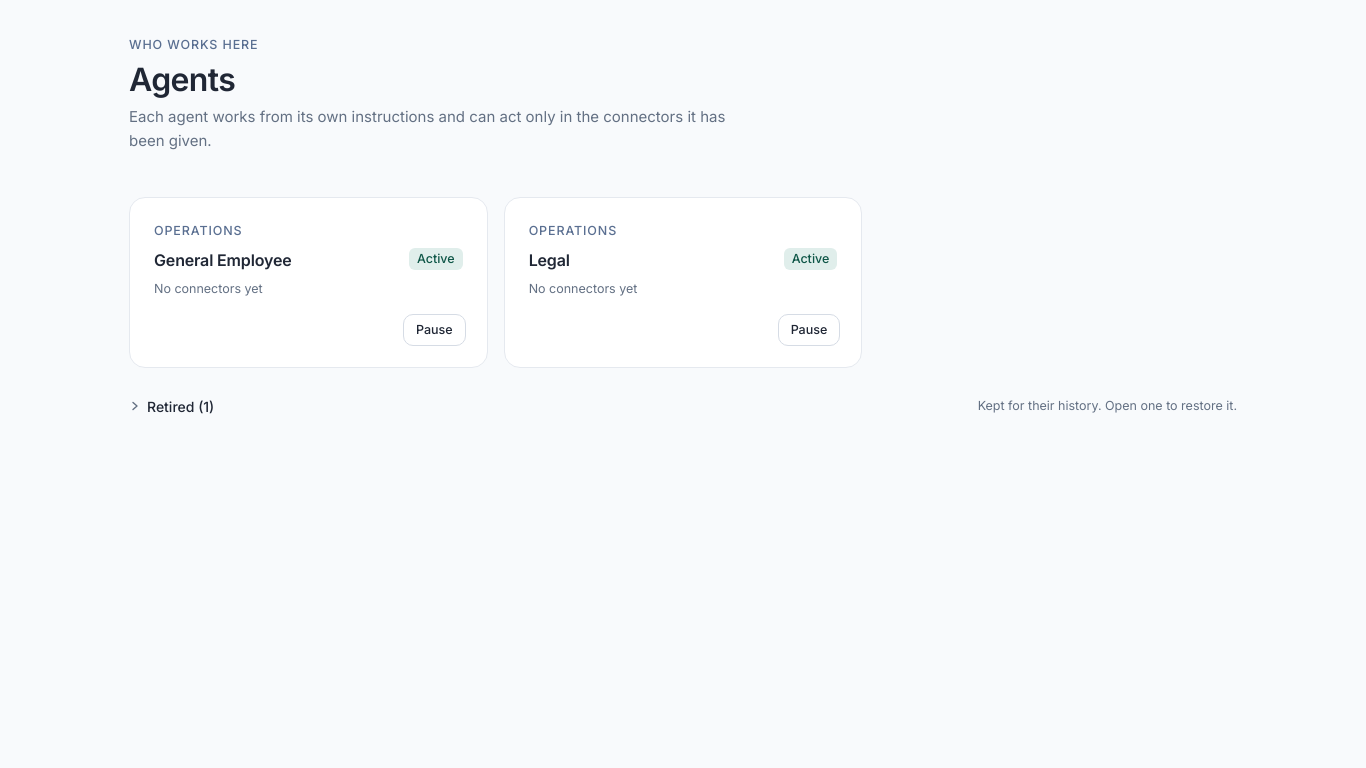
Test case: pause and resume on the cards › ask before pausing the General Employee
Expected: the heading "Legal" is shown, [529,248,570,272]
Step 1. Click the button with aria-label "Pause General Employee" → [434, 330], box [403,314,466,346]
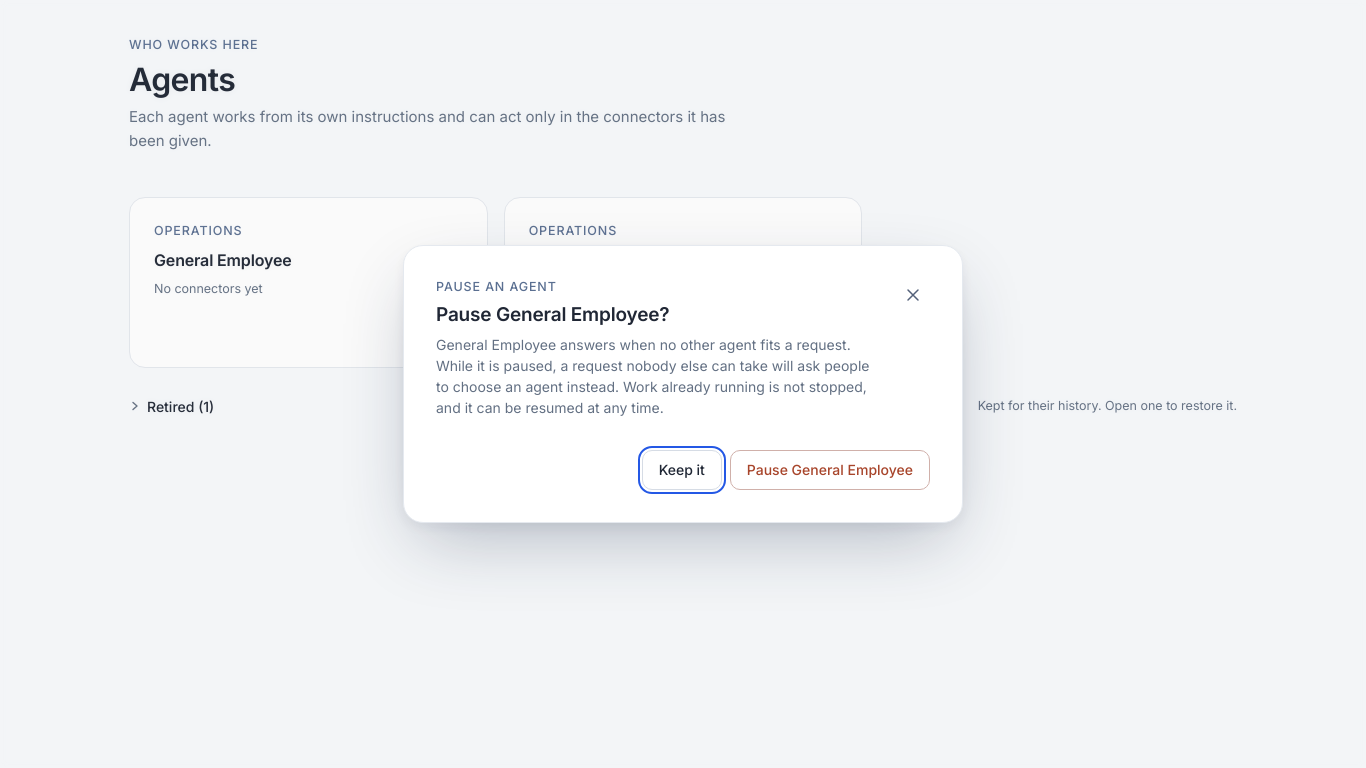
Result: the text "will ask people to choose an agent" is shown at [436,336,870,416]
